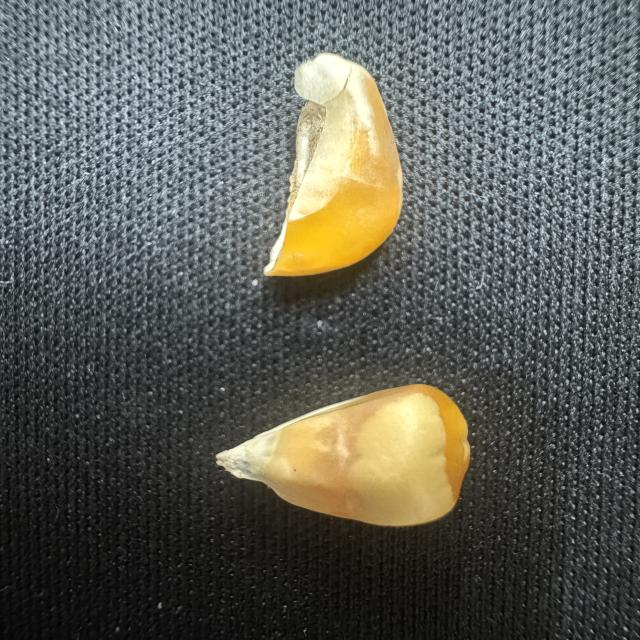Bad-Seed: (208, 377, 495, 538), (250, 48, 418, 292)
